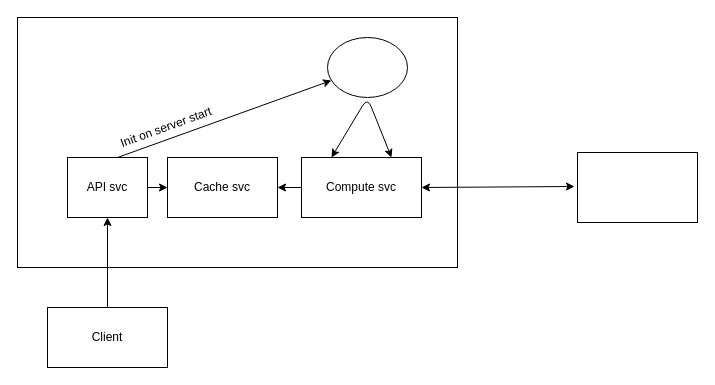
This 715x385 diagram has some shape labels left out. The centre of each missing label's shape, as x and y in pixels:
External API: (x=637, y=187)
Job svc: (x=367, y=67)
